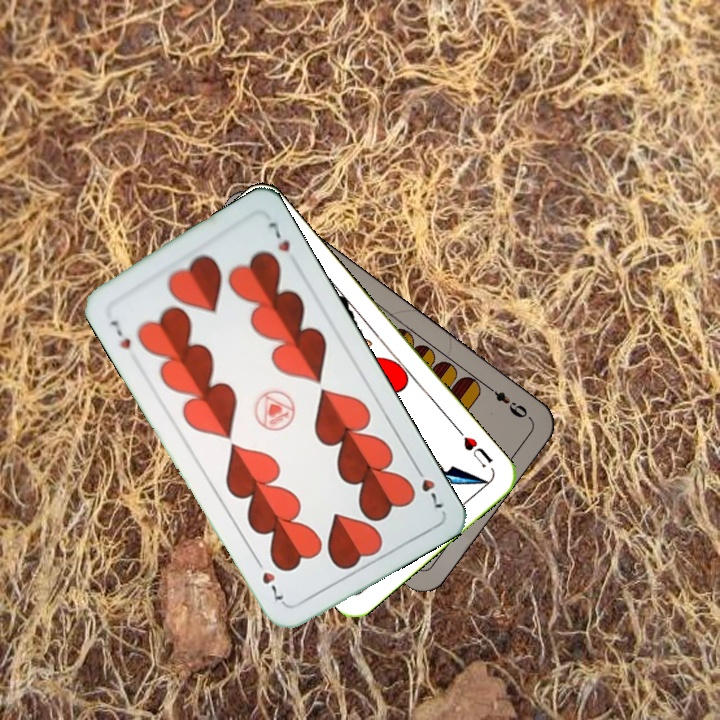E9: (482, 381, 533, 421)
H7: (410, 460, 449, 514), (106, 316, 134, 352)
HU: (452, 424, 496, 471)
